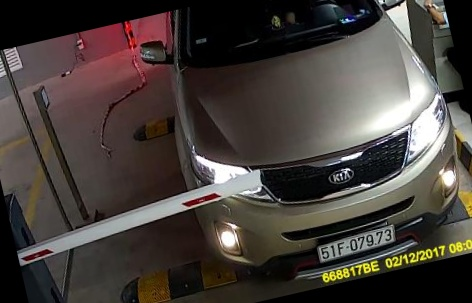plate: (308, 219, 396, 265)
